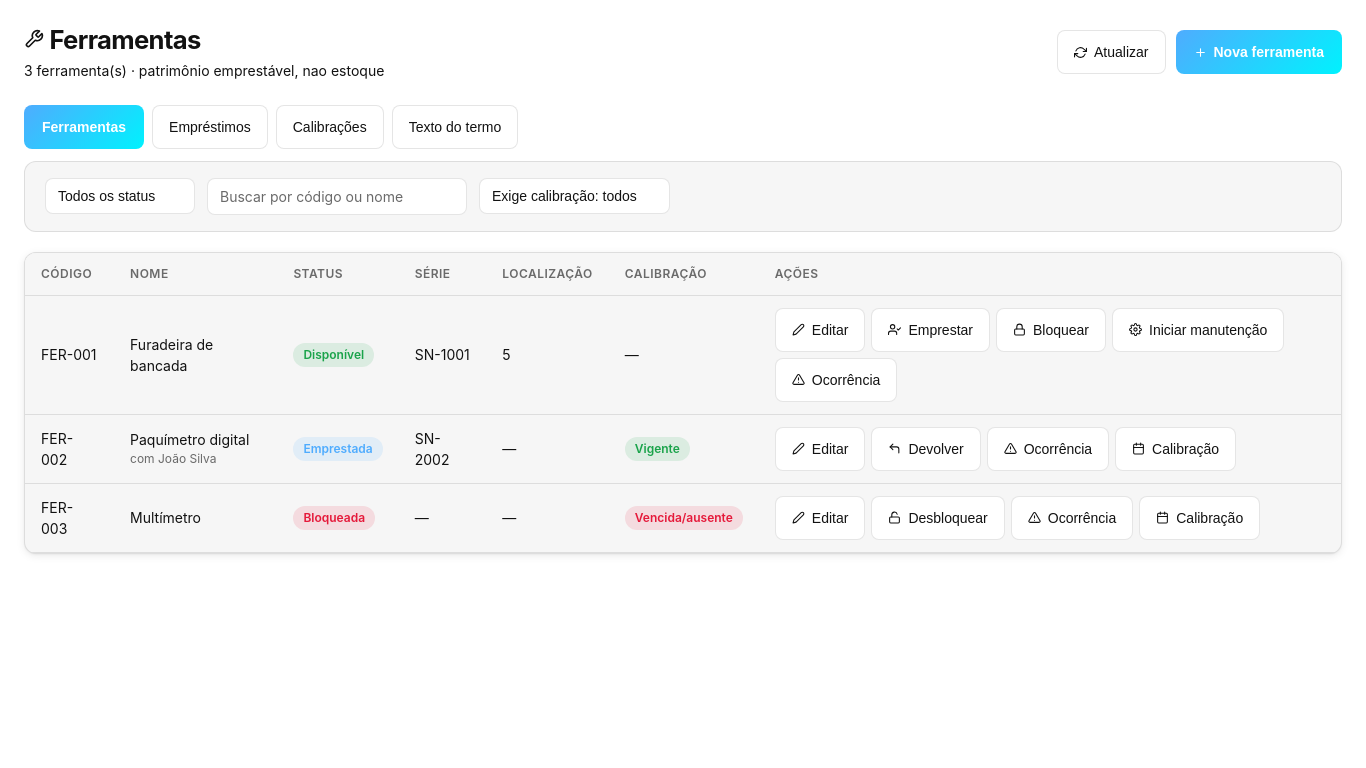
FerramentasAlmoxarifado — três visões › renderiza as abas Ferramentas, Empréstimos e Calibrações
This screenshot has width=1366, height=768.
Expected: the button "Ferramentas" is shown, x1=24 y1=105 x2=144 y2=149
Expected: the button "Calibrações" is shown, x1=276 y1=105 x2=384 y2=149
Click the button "Empréstimos" at coordinates (210, 127), box x1=152 y1=105 x2=268 y2=149
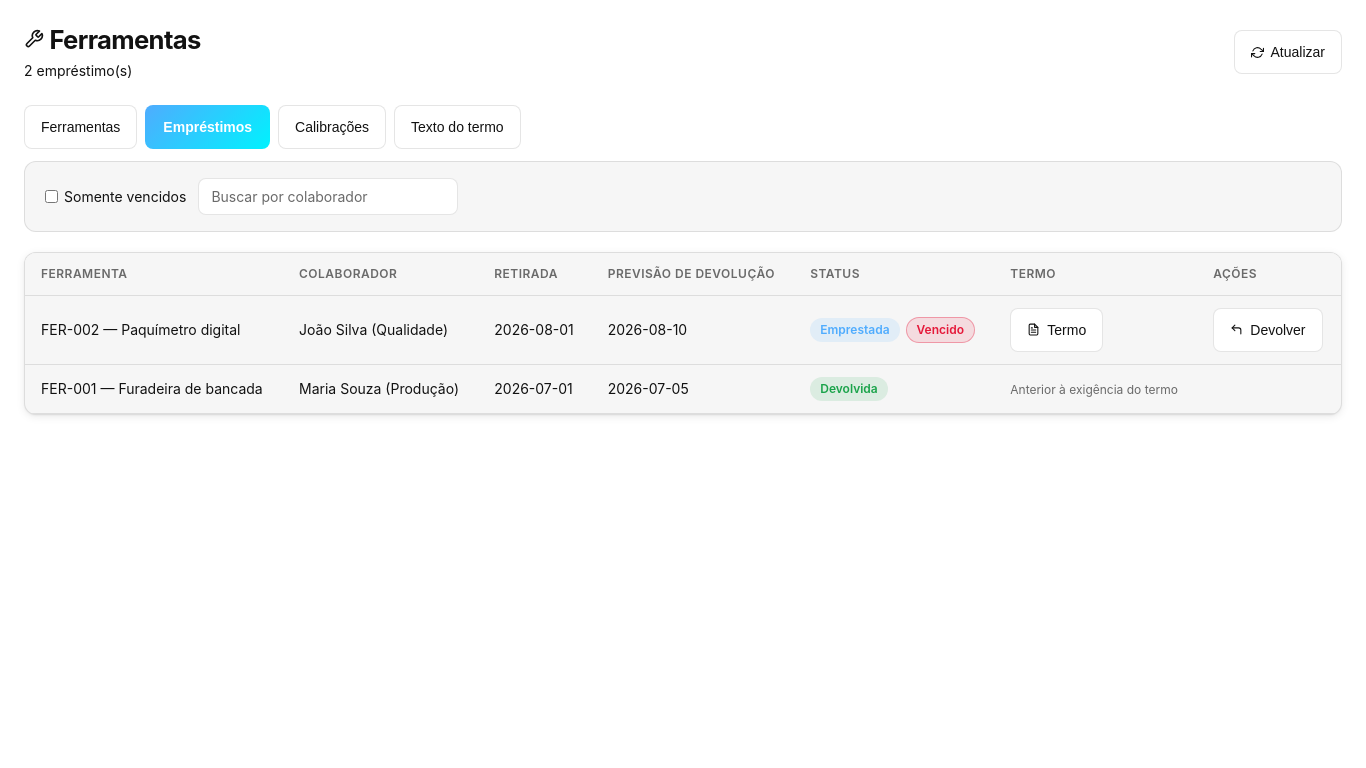
Expected: the table with class "almox-emprestimo-lista" is shown, x1=25 y1=253 x2=1341 y2=414
Expected: the text "vencido" is shown, x1=64 y1=188 x2=186 y2=205
Click the button "Calibrações" at coordinates (332, 127), box x1=278 y1=105 x2=386 y2=149
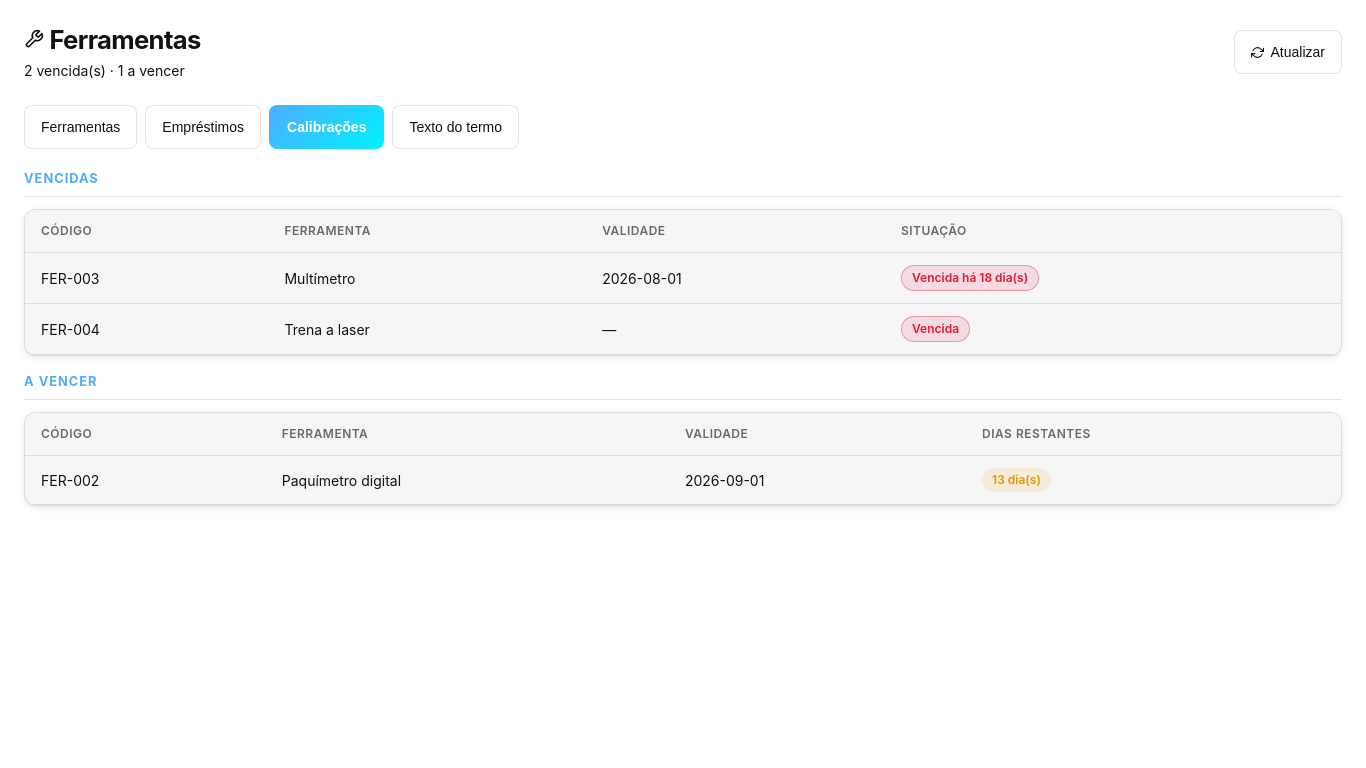
Expected: the table with class "almox-calibracao-vencidas" is shown, x1=25 y1=210 x2=1341 y2=355
Expected: the table with class "almox-calibracao-a-vencer" is shown, x1=25 y1=413 x2=1341 y2=505
